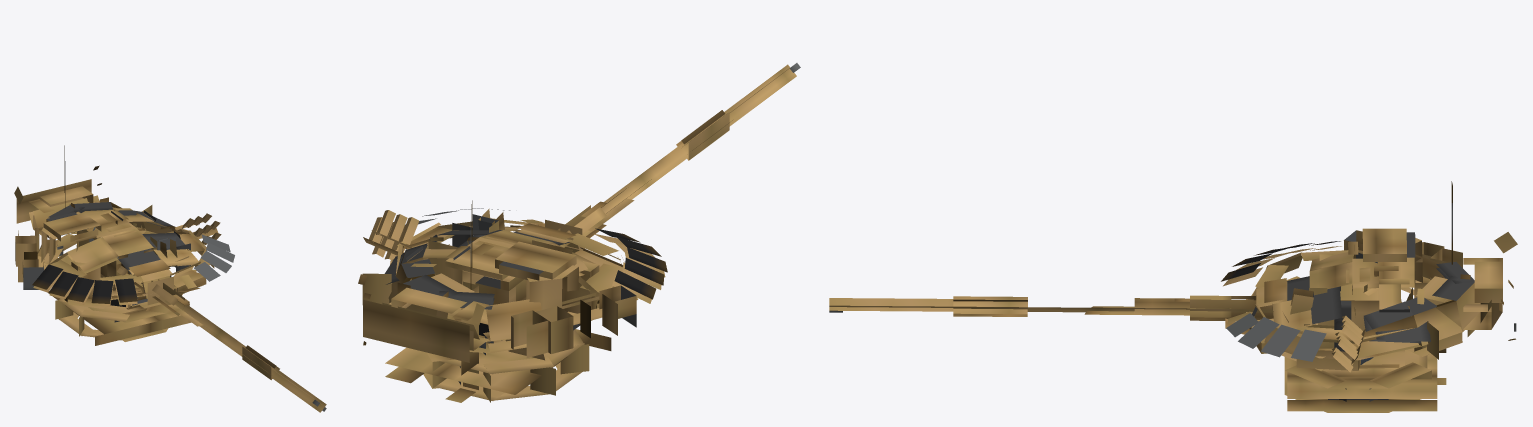
File: ver_b32016_turret72.obj
3 renders of one model, left to right at view 1: azimuth 30°, elevation 25°; view 2: azimuth 150°, elevation 25°; view 3: azimuth 270°, elevation 25°, orthographic. The views are drawn at different scales.
Parts seen in each view (by area): view 1: turret, gun; view 2: turret, gun; view 3: turret, gun.
Boxes of the visible parts, left/top/right/bottom form: turret: left=14, top=145, right=234, bottom=345; gun: left=97, top=238, right=326, bottom=412; turret: left=358, top=200, right=667, bottom=402; gun: left=448, top=63, right=800, bottom=340; turret: left=1221, top=181, right=1517, bottom=412; gun: left=829, top=284, right=1379, bottom=350.
Bounding box in the file's own units: 3.98 × 5.42 × 9.46.
